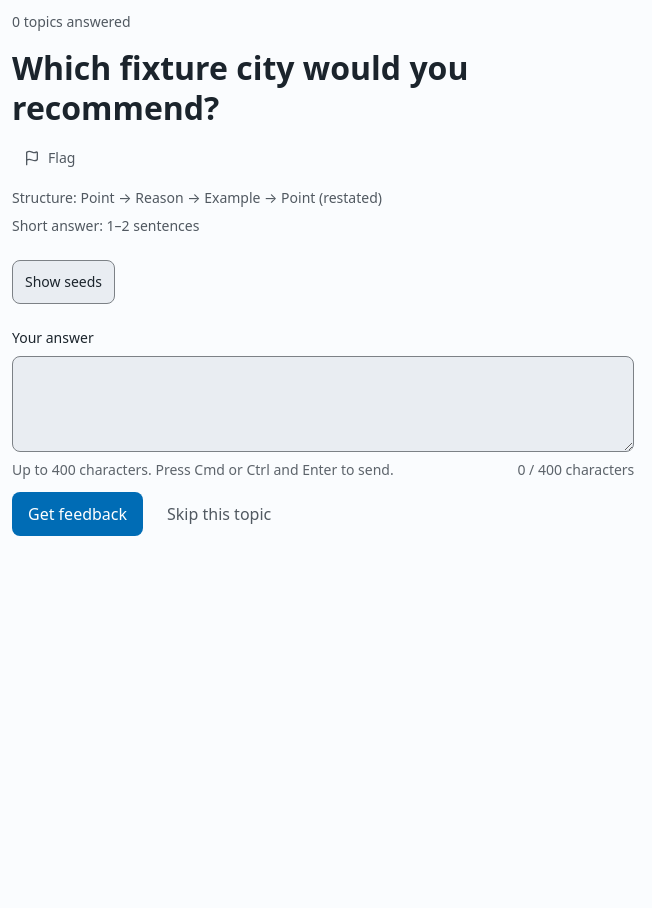
Test case: the drill page's client leaf › keeps the answer and offers a resend when the endpoint fails recoverably
Type "I recommend Kyoto because its old temples are beautiful." into the text box labelled "Your answer" at (323, 404), box [12, 356, 634, 452]
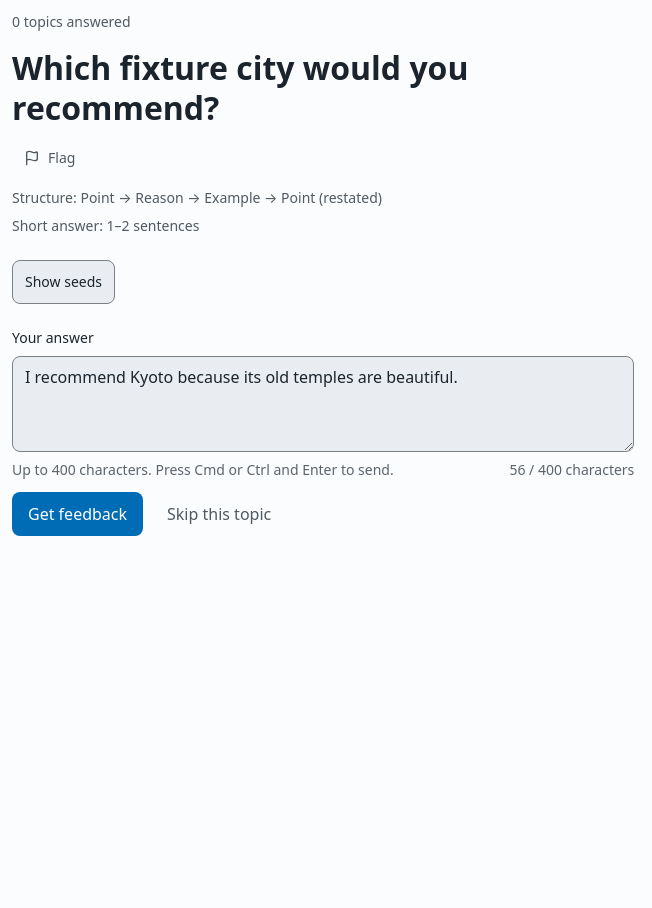
Click the button "Get feedback" at (78, 514), box [12, 492, 143, 536]
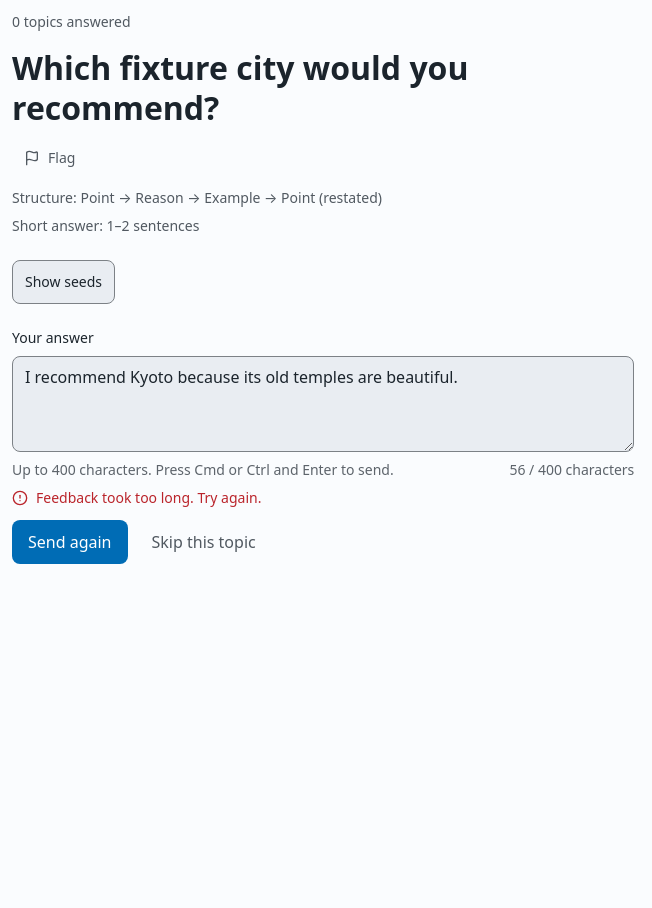
Check: the message reads "Feedback took too long. Try again.", box [36, 488, 261, 507]
Click the button "Send again" at (70, 542), box [12, 520, 128, 564]
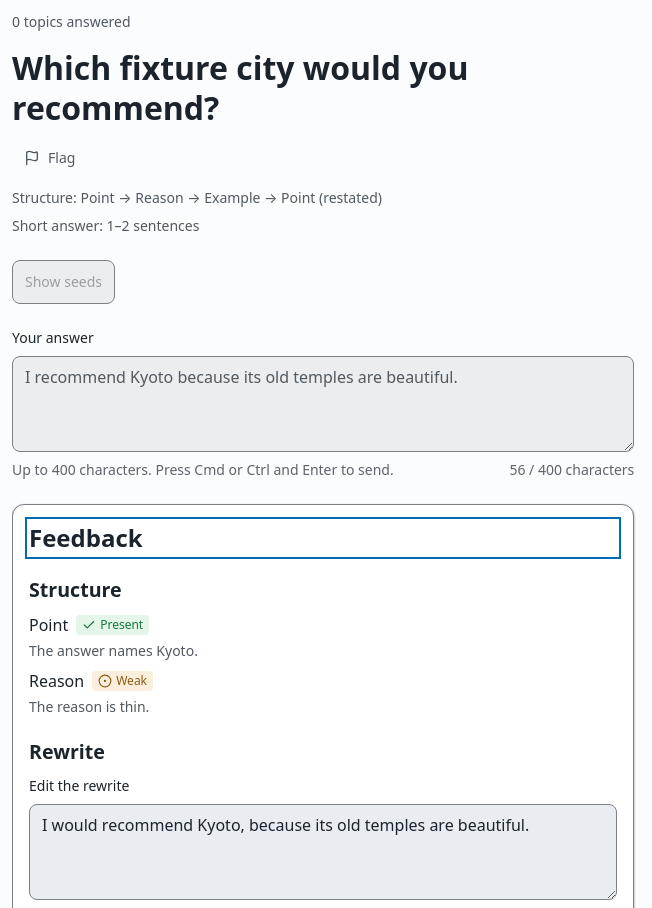
Check: the text box "I would recommend Kyoto, because its old temples are beautiful." is shown, box [29, 804, 617, 900]
